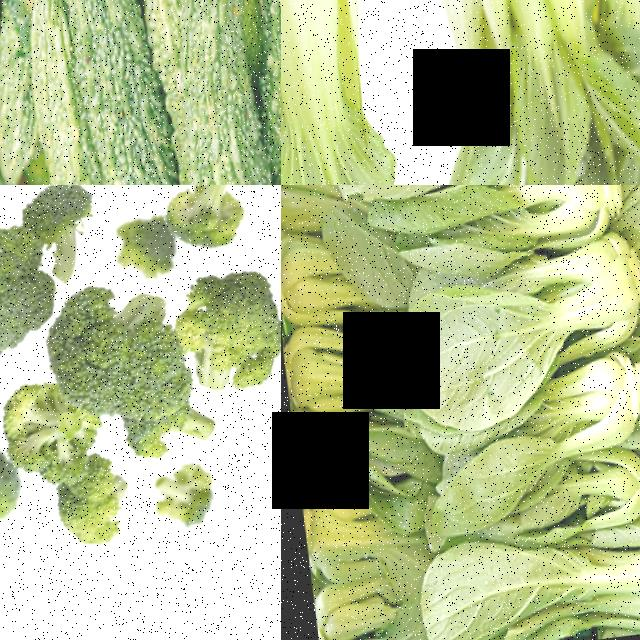bitter gourd: (153, 0, 281, 185), (49, 0, 168, 185)
bok choy: (393, 250, 640, 384), (467, 0, 625, 185), (281, 0, 436, 185), (408, 374, 640, 490), (415, 530, 640, 640), (356, 185, 609, 271), (284, 387, 390, 499), (299, 495, 388, 593), (281, 315, 381, 402), (281, 224, 339, 311)
broccoli: (31, 283, 177, 452), (173, 277, 281, 403), (11, 185, 97, 296), (144, 185, 255, 270), (35, 477, 129, 566), (0, 388, 74, 492), (0, 236, 35, 366)
